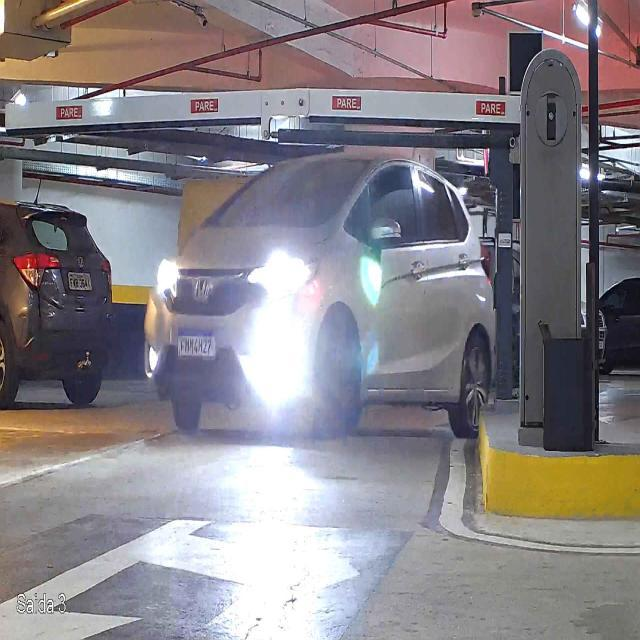mercosul_plate: (176, 328, 218, 359)
